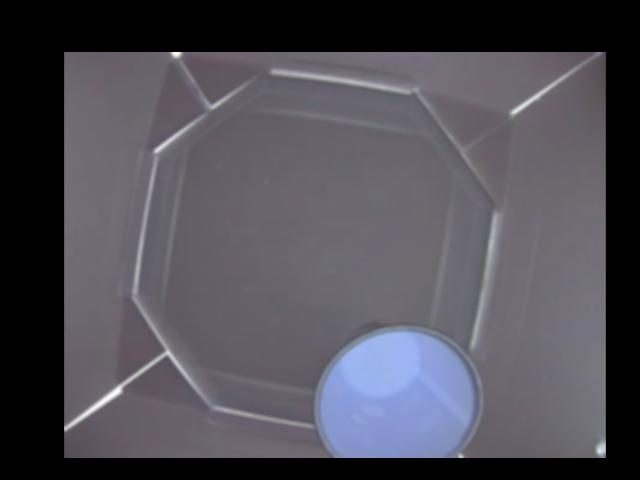Cup: (313, 322, 484, 458)
